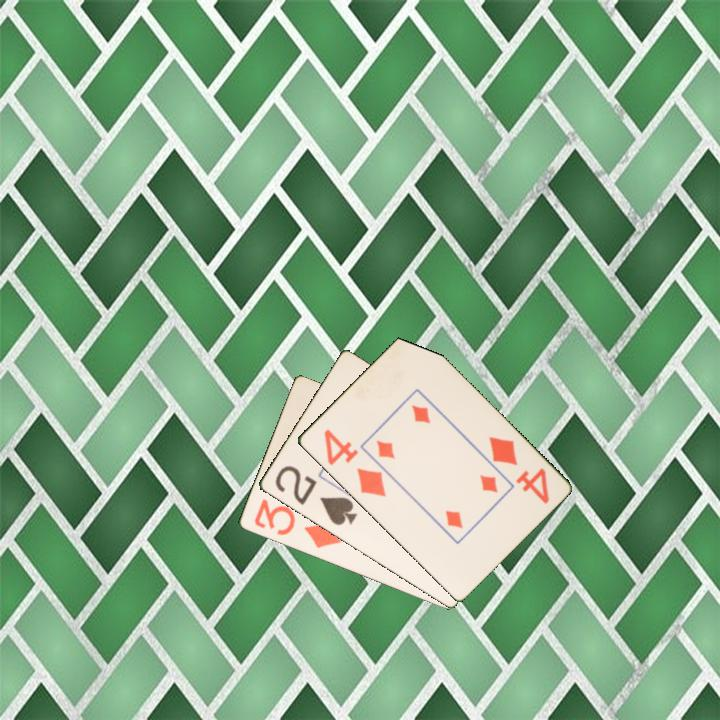2s: (271, 462, 360, 528)
3d: (250, 495, 344, 551)
4d: (320, 425, 388, 500), (484, 433, 552, 507)
